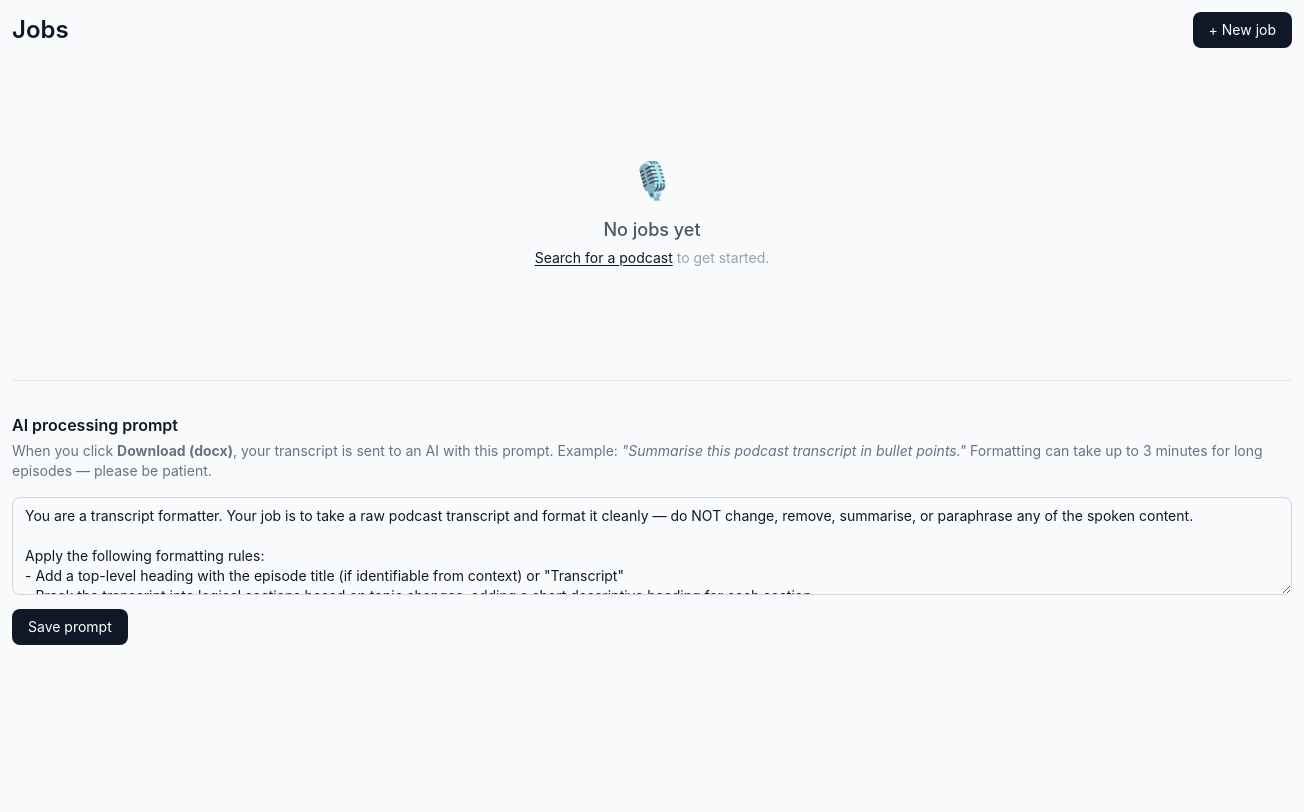
Test: DashboardPage › shows "Saving…" on the Save button while saving
Click the button "Save prompt".
click(70, 627)  # box left=12, top=609, right=128, bottom=645
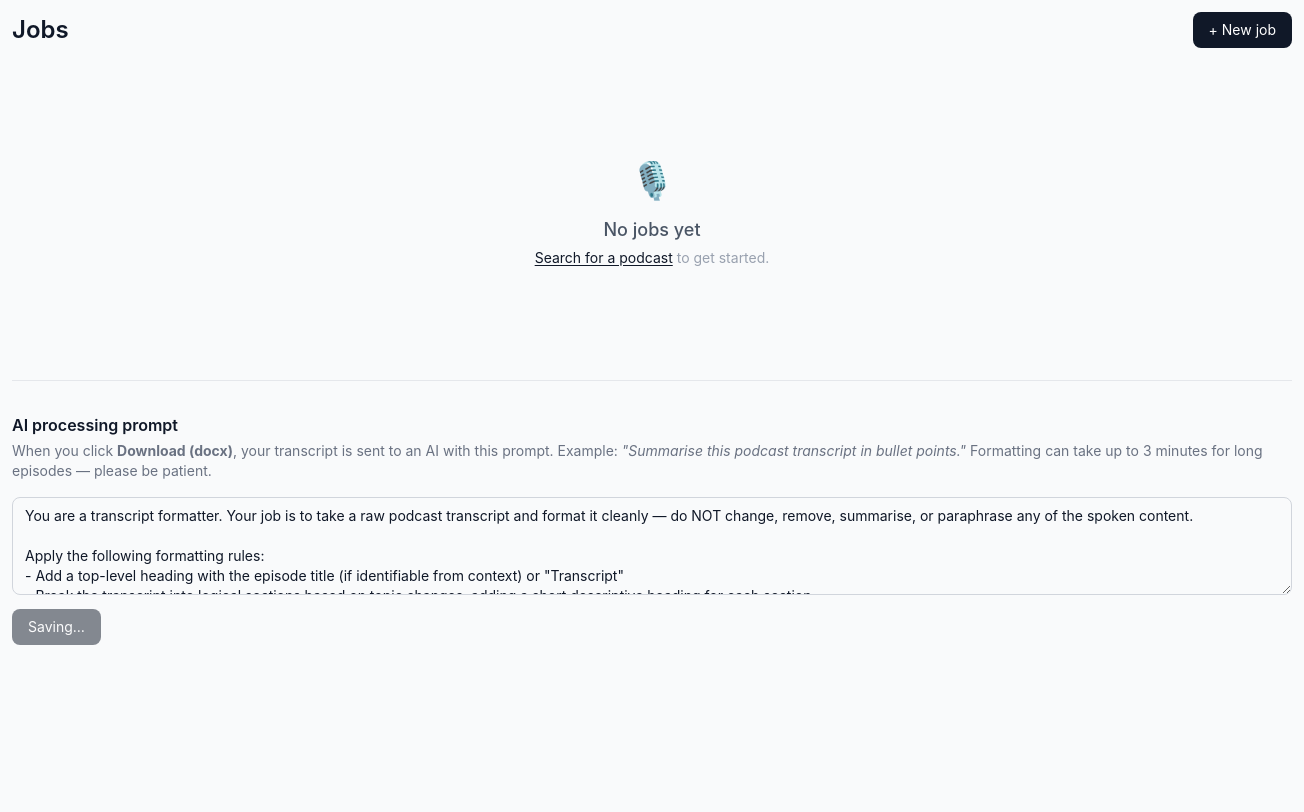
expect the button "Saving…" is shown: met, box left=12, top=609, right=101, bottom=645
